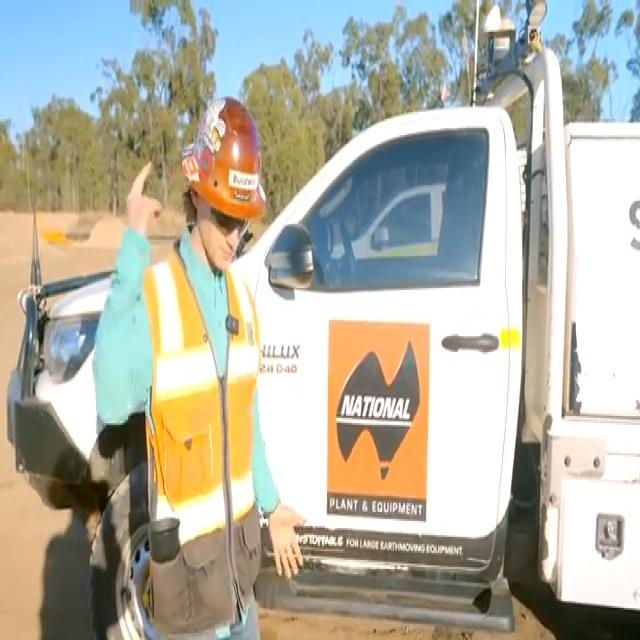safety_helmet: (141, 262, 260, 604)
